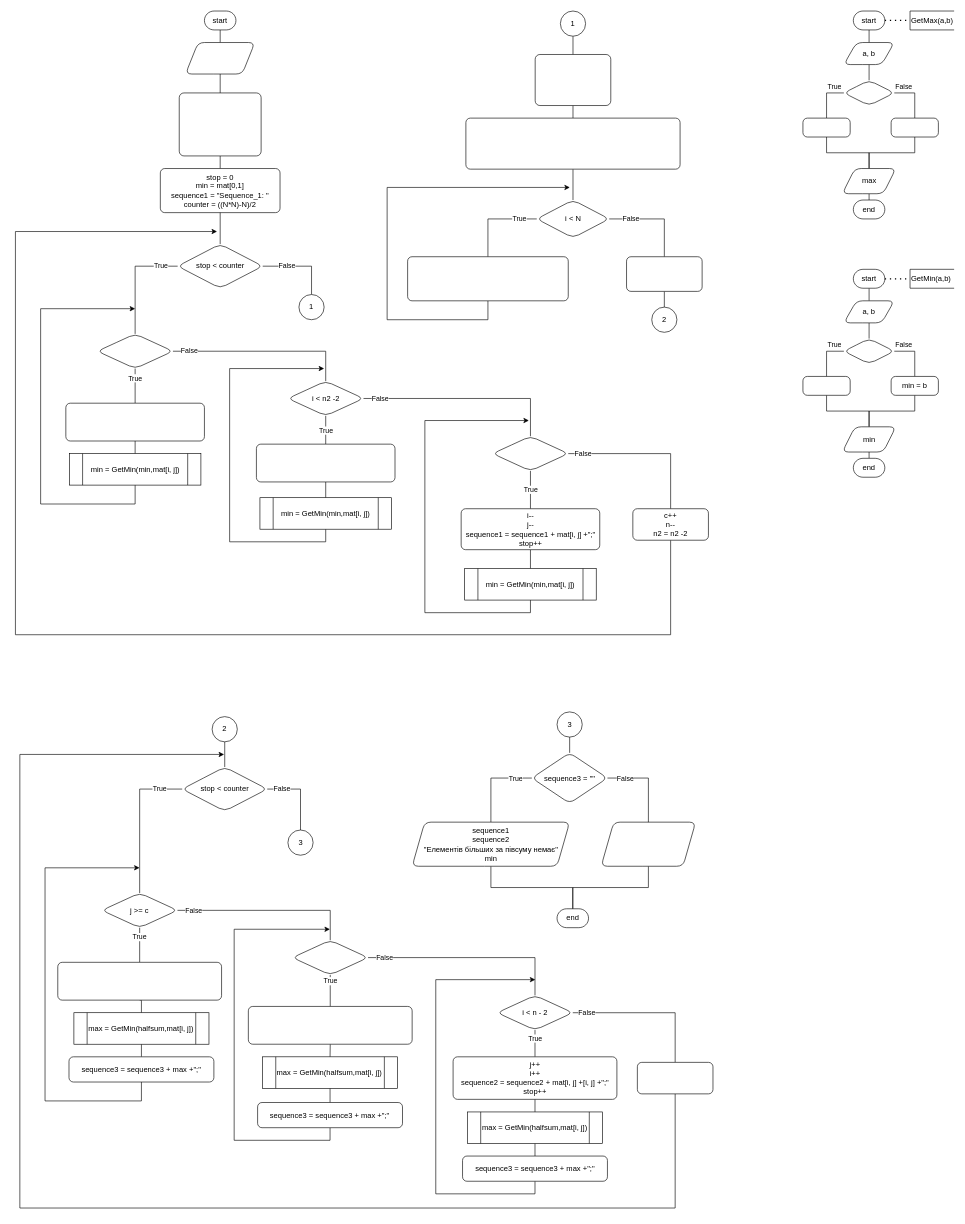
The diagram is 965 pixels wide and 1224 high, and some of its shapes have lost their labels. The shapes that lost their labels are listed below. From the top down, each one's centre as x and y in pixels, then its label:
(220,58): N,M ∈ ℕ mat[N,M]
(573,80): n = N c = 1 c2 = 1 j = 0 i = 0
(868,93): a > b
(220,124): N = M n = N n2 = N c = 1 j = 0 i = 0
(572,143): stop = 0 sum = 0 sequence2 = "Sequence_2: " sequence3 = ""
(826,127): max = a
(914,127): max = b
(487,278): sum = sum + mat[i, j] sequence2 = sequence2 + mat[i, j] +";" i++ j++
(664,273): i-- j-- halfsum = sum/2
(135,351): j < n -1
(868,351): a < b
(826,385): min = a
(134,422): j++ sequence1 = sequence1 + mat[i, j] +";" stop++
(325,463): i++ sequence1 = sequence1 + mat[i, j] +";" stop++
(530,453): i > c
(648,844): sequence1 sequence2 sequence3 min
(330,957): i > c2
(139,981): j-- sequence2 = sequence2 + mat[i, j] +[i, j] +";" stop++
(330,1025): i-- sequence2 = sequence2 + mat[i, j] +[i, j] +";" stop++
(675,1078): c++ n-- c2 = c2 + 2
